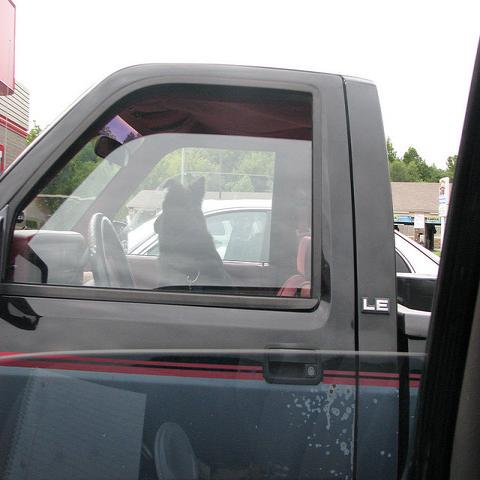car: (127, 195, 274, 264), (397, 230, 436, 358)
truck: (0, 42, 480, 479)
